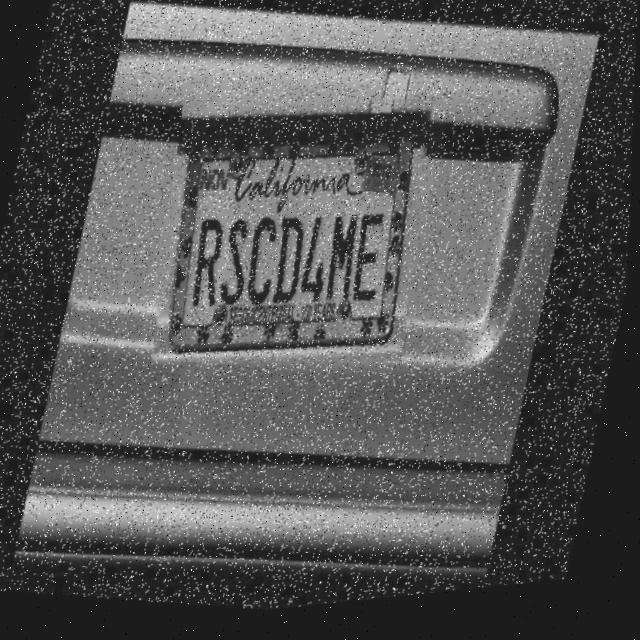LicensePlate: (137, 69, 451, 406)
